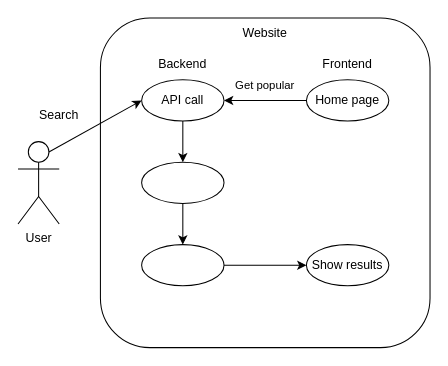
This 448x366 diagram has some shape labels left out. Each missing label, with the box of its shape:
Filter/Sort: (141, 161, 224, 203)
Organize results: (141, 244, 224, 286)
